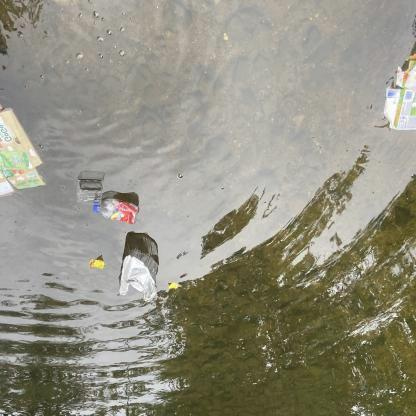Metal: (118, 251, 160, 306)
Plastic: (92, 195, 141, 227), (74, 176, 106, 207)
